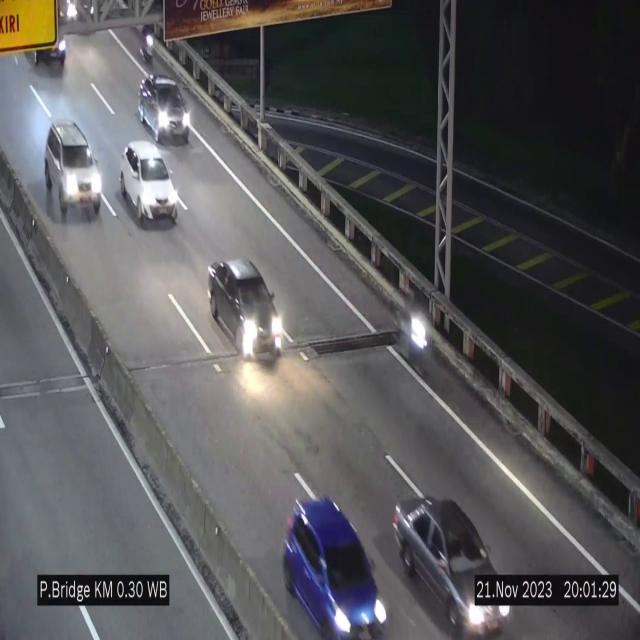Car: (393, 490, 509, 640), (280, 492, 390, 640), (205, 260, 284, 367), (44, 122, 102, 220), (120, 141, 178, 227), (138, 75, 190, 144)
Motorcycle: (402, 297, 432, 378), (137, 8, 160, 76)
